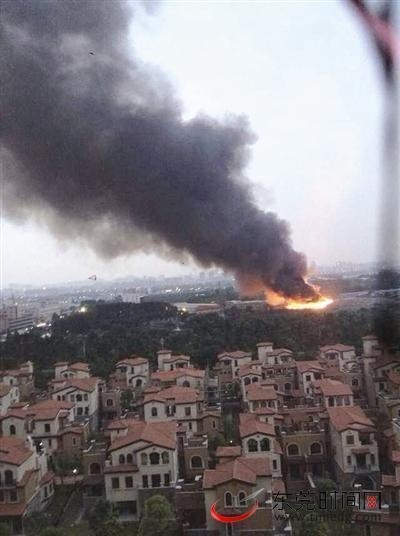fire: (267, 283, 335, 311)
